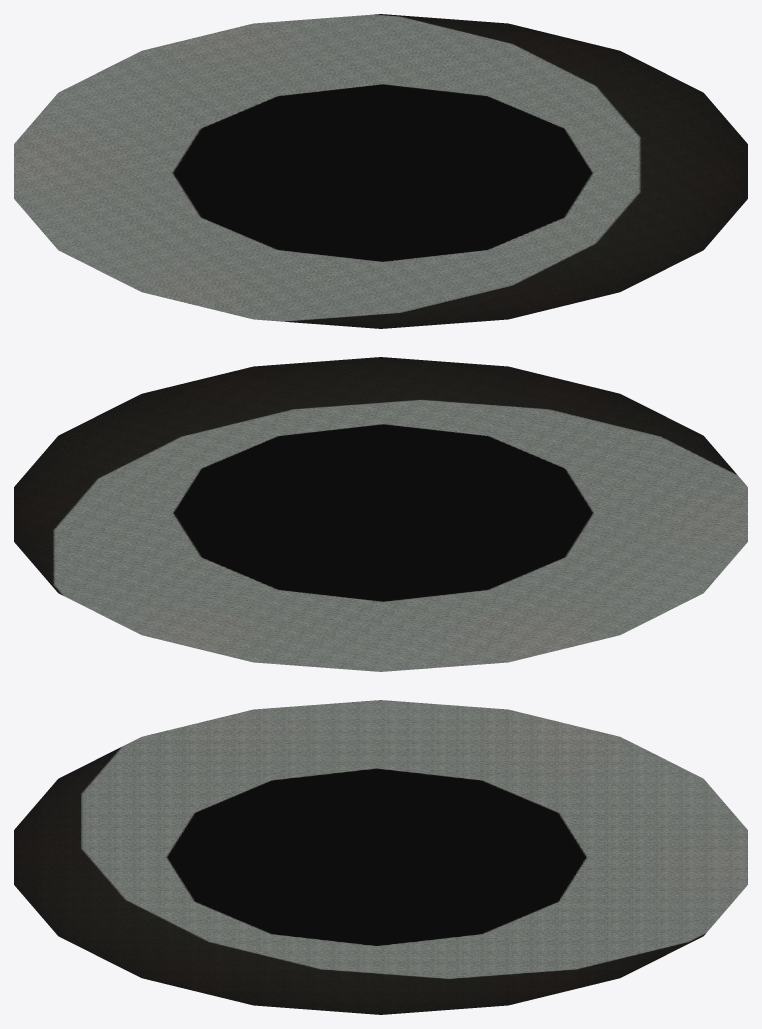
Rendered from Arena_Floor_Stone.glb.
The picture shows the model from 3 angles, top to bottom: view 1: azimuth 30°, elevation 25°; view 2: azimuth 150°, elevation 25°; view 3: azimuth 270°, elevation 25°; orthographic projection.
Visible parts, largest first — view 1: 2--Floor_Stone; view 2: 2--Floor_Stone; view 3: 2--Floor_Stone.
Boxes of the visible parts, bbox=[...] form: 2--Floor_Stone: bbox=[14, 14, 747, 328]; 2--Floor_Stone: bbox=[14, 357, 747, 671]; 2--Floor_Stone: bbox=[14, 700, 747, 1014].
Size of the model in its own units: 122 by 0 by 120.
Materials: 1 (1 with a texture image).
